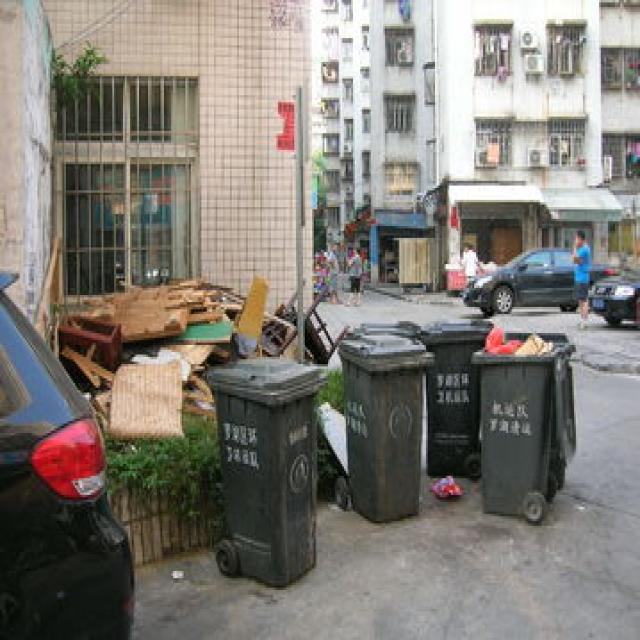garbage: (428, 471, 462, 497)
garbage_bin: (205, 352, 332, 585), (337, 328, 431, 519), (421, 317, 492, 471)
overflow: (467, 326, 574, 514)
